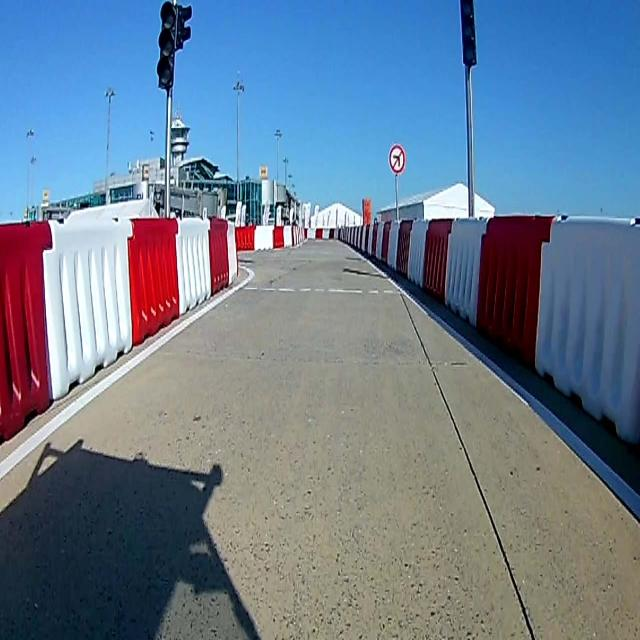soladonulmez: (390, 146, 406, 173)
